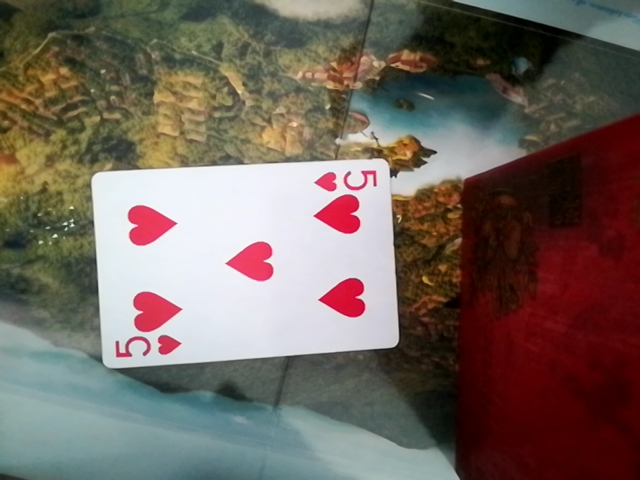hx 5: (87, 162, 403, 372)
